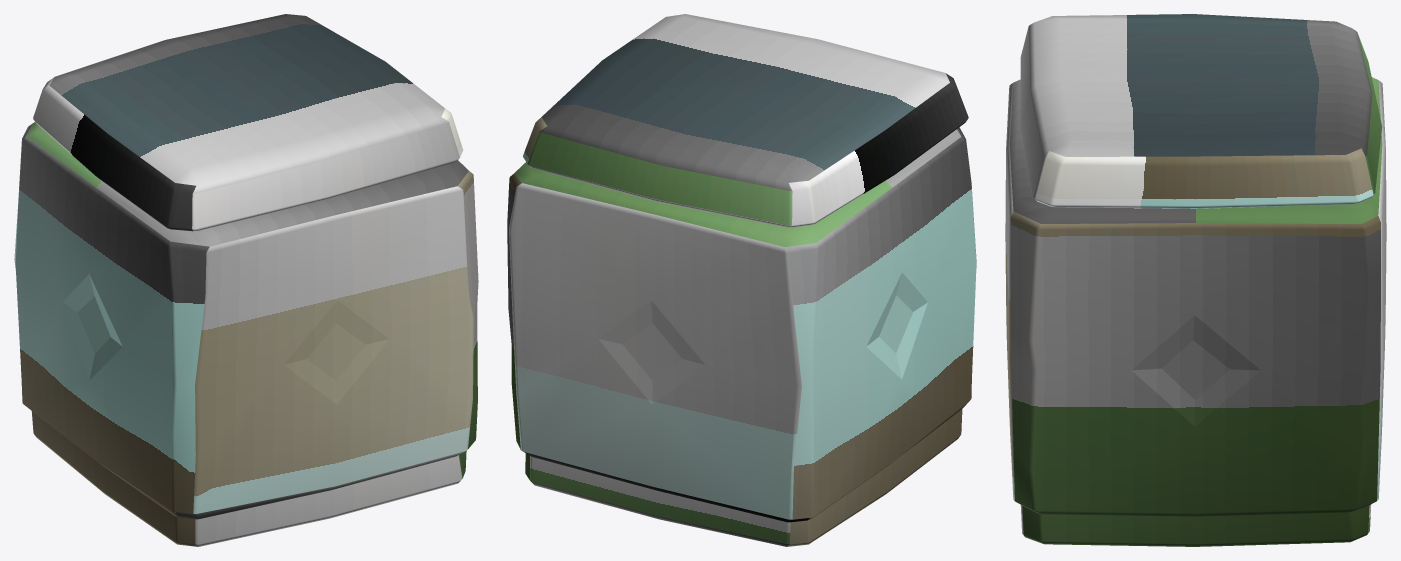
File: P_StoneBoxClosed.glb
3 views of the same model, side by side, from view 1: azimuth 30°, elevation 25°; view 2: azimuth 150°, elevation 25°; view 3: azimuth 270°, elevation 25° (orthographic). The views are drawn at different scales.
Parts seen in each view (by area): view 1: P_StoneBoxClosed; view 2: P_StoneBoxClosed; view 3: P_StoneBoxClosed.
Boxes of the visible parts, left/top/right/bottom form: P_StoneBoxClosed: left=14, top=14, right=478, bottom=546; P_StoneBoxClosed: left=507, top=14, right=976, bottom=546; P_StoneBoxClosed: left=1005, top=14, right=1386, bottom=546.
Size of the model in its own units: 0.507 by 0.5768 by 0.4965.
1 material, 1 textured.
